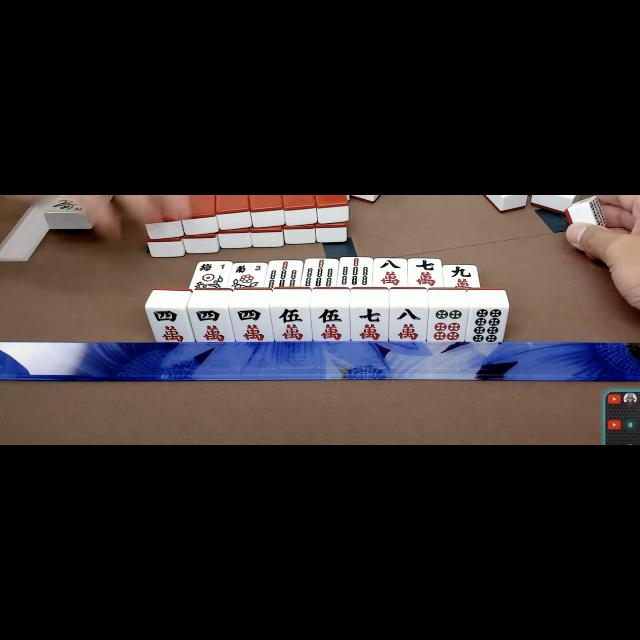b7: (338, 257, 372, 287), (266, 260, 302, 288), (302, 258, 338, 286)
c4: (191, 306, 231, 342), (232, 306, 270, 342), (150, 308, 188, 342)
c5: (272, 306, 310, 342), (313, 306, 349, 342)
c7: (352, 308, 388, 342), (410, 259, 442, 287)
c8: (390, 308, 426, 342), (373, 258, 407, 286)
c9: (444, 265, 478, 287)
d6: (429, 307, 465, 343)
d8: (468, 308, 506, 344)
f1: (194, 261, 230, 273)
f3: (232, 262, 264, 276)
